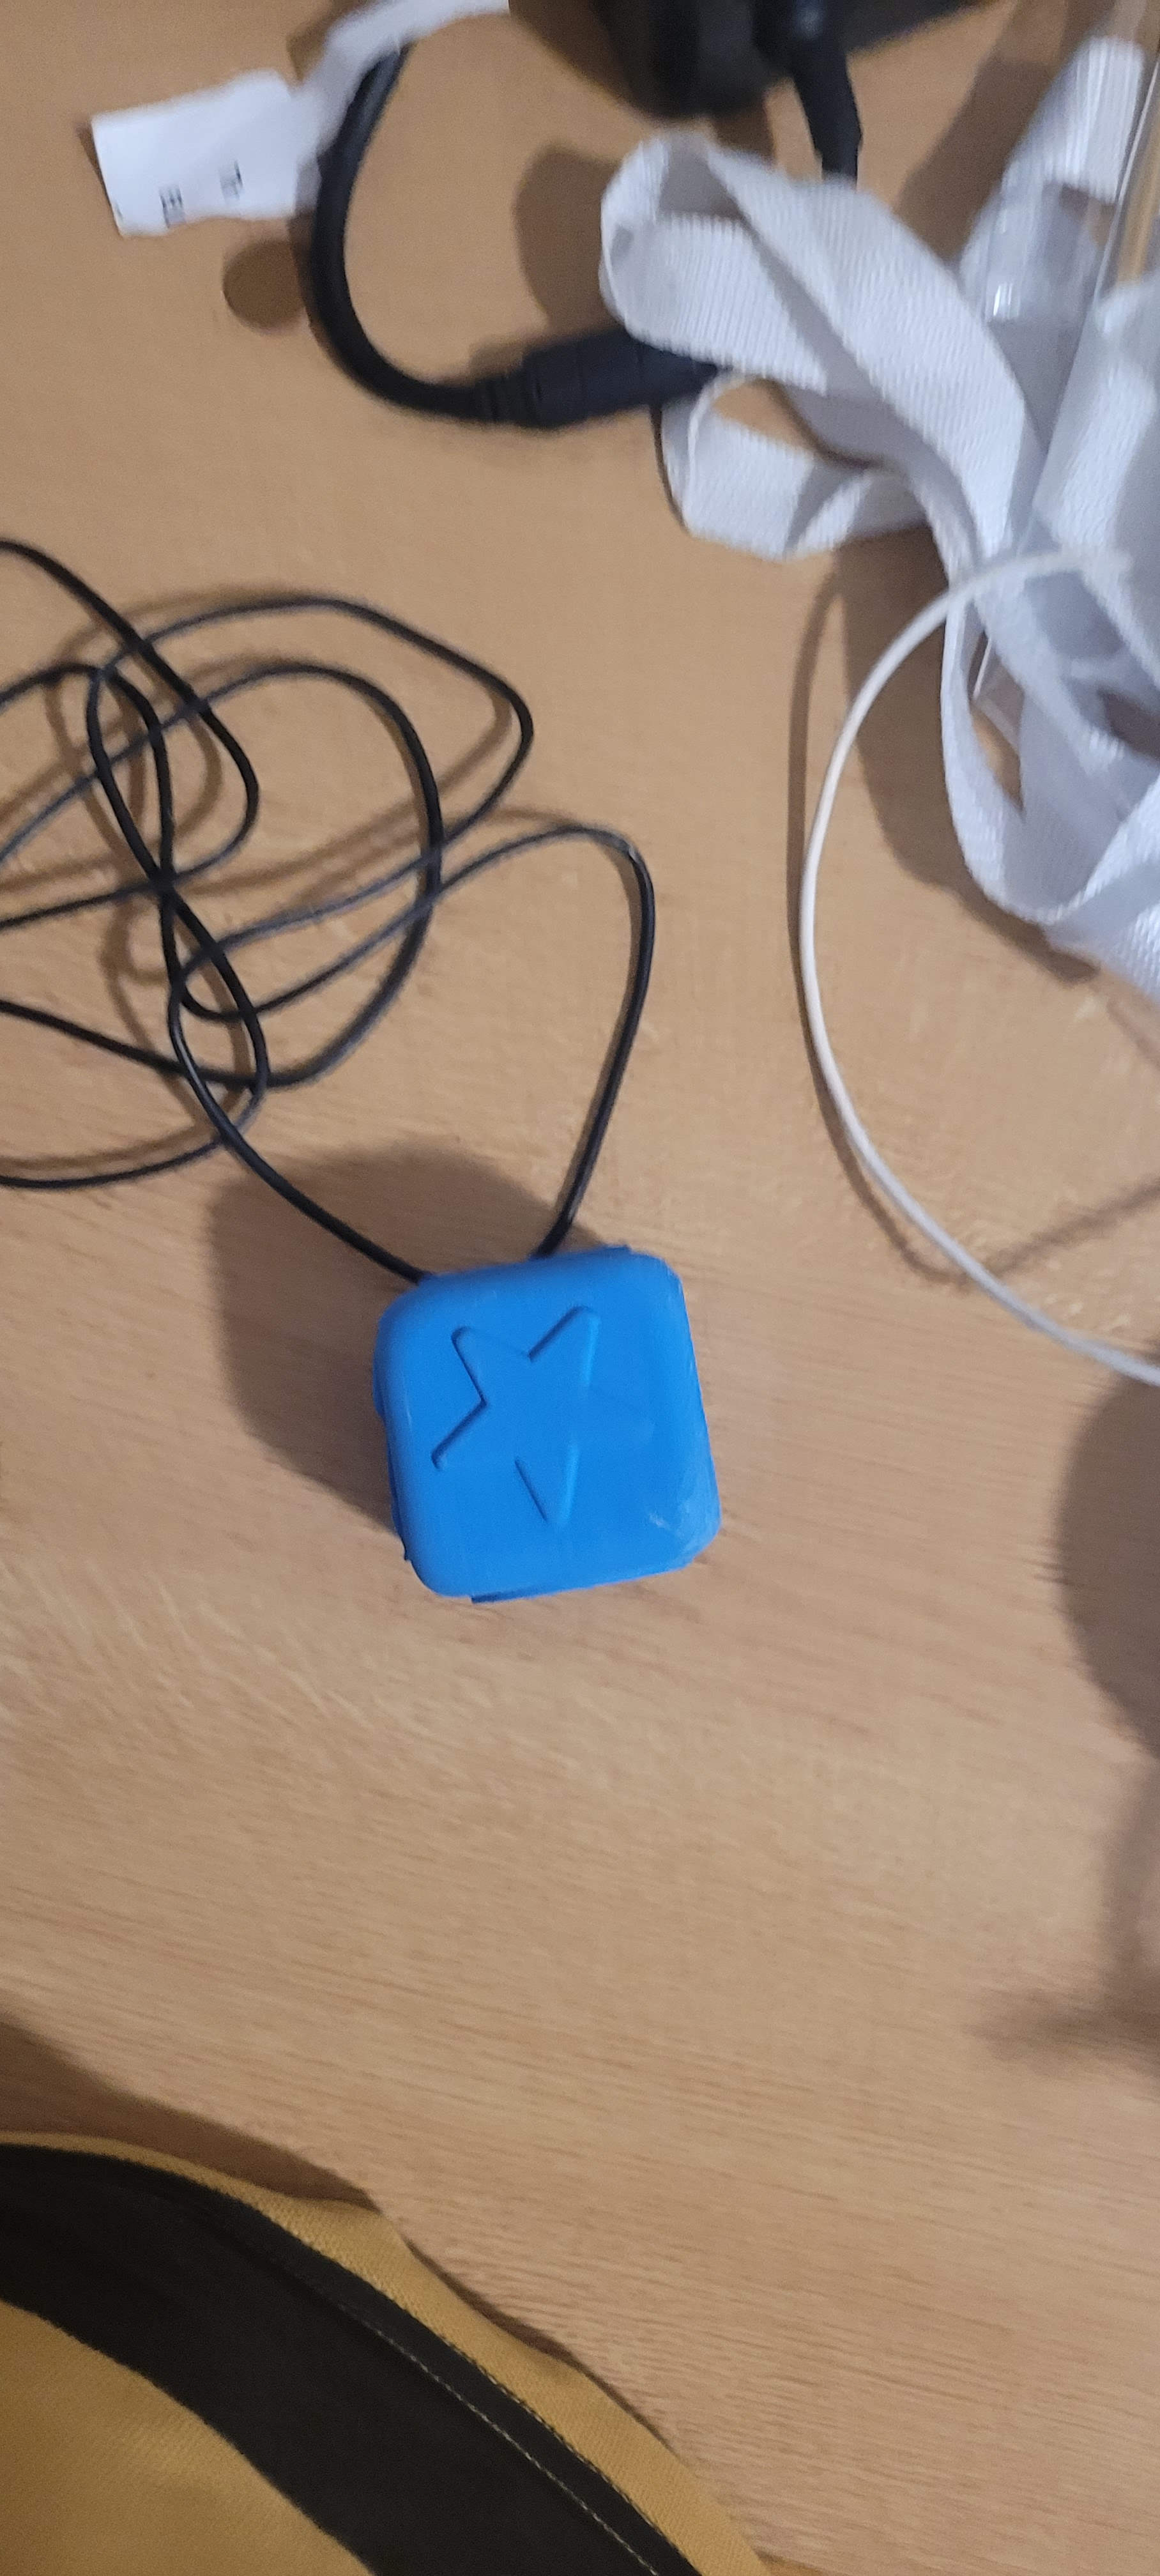Star: (393, 1288, 659, 1529)
